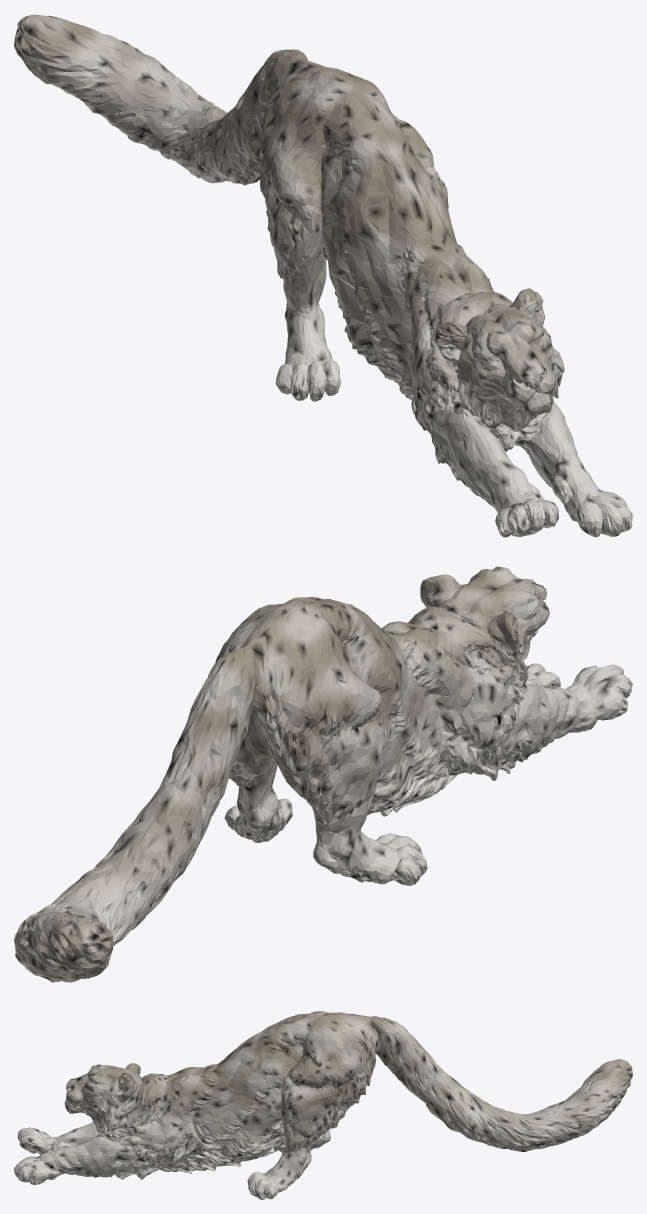
Rendered from animal_snowleopard_v1.glb.
3 renders of one model, top to bottom at view 1: azimuth 30°, elevation 25°; view 2: azimuth 150°, elevation 25°; view 3: azimuth 270°, elevation 25°, orthographic. The views are drawn at different scales.
Parts seen in each view (by area): view 1: snow-leo-stretch; view 2: snow-leo-stretch; view 3: snow-leo-stretch.
Part boxes in pixels (left/top/right/bottom): snow-leo-stretch: left=14, top=14, right=632, bottom=537; snow-leo-stretch: left=14, top=566, right=632, bottom=982; snow-leo-stretch: left=14, top=1011, right=632, bottom=1199.
Size of the model in its own units: 21.63 by 28.2 by 98.95.
